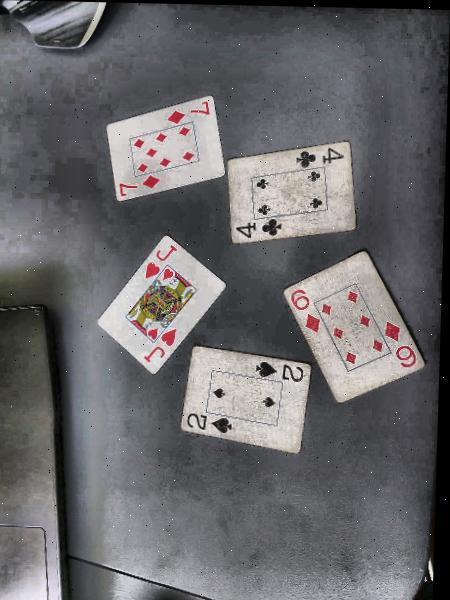2P: (178, 405, 240, 442), (252, 357, 307, 387)
4T: (294, 142, 346, 171), (228, 218, 285, 244)
6D: (374, 314, 423, 377), (284, 289, 323, 333)
7D: (157, 99, 217, 129), (109, 173, 163, 197)
JC: (138, 238, 187, 289), (139, 319, 183, 370)
